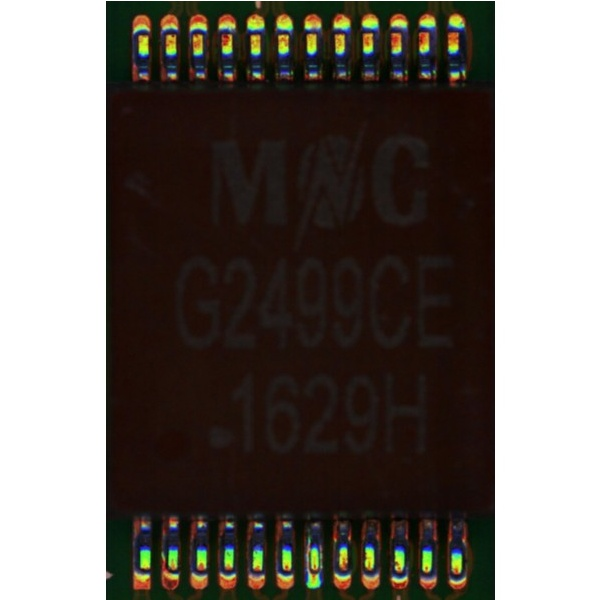Bad_podu: (309, 565, 318, 577)
Bad_qiaojiao: (318, 539, 323, 569), (305, 535, 309, 568)
